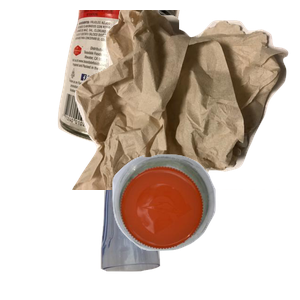glass: (98, 168, 251, 300)
metal: (55, 10, 227, 149)
plastic: (110, 152, 300, 300)
trash: (70, 10, 300, 190)
